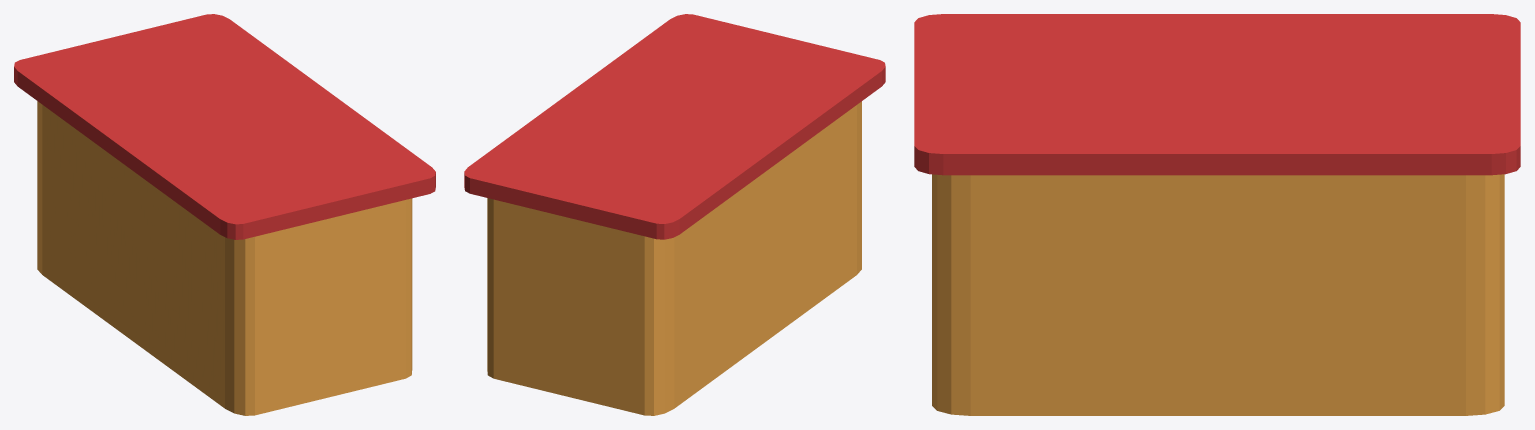
File: desk2.glb
The picture shows the model from 3 angles, left to right: view 1: azimuth 30°, elevation 25°; view 2: azimuth 150°, elevation 25°; view 3: azimuth 270°, elevation 25°; orthographic projection. The views are drawn at different scales.
Visible parts, largest first — view 1: Counter_Palette_0; view 2: Counter_Palette_0; view 3: Counter_Palette_0.
Part boxes in pixels (x1,y1,x2,y2): Counter_Palette_0: (14, 14, 435, 415); Counter_Palette_0: (464, 14, 885, 415); Counter_Palette_0: (914, 14, 1520, 415).
Size of the model in its own units: 0.9474 by 0.857 by 1.73.
Materials: 1 (1 with a texture image).
